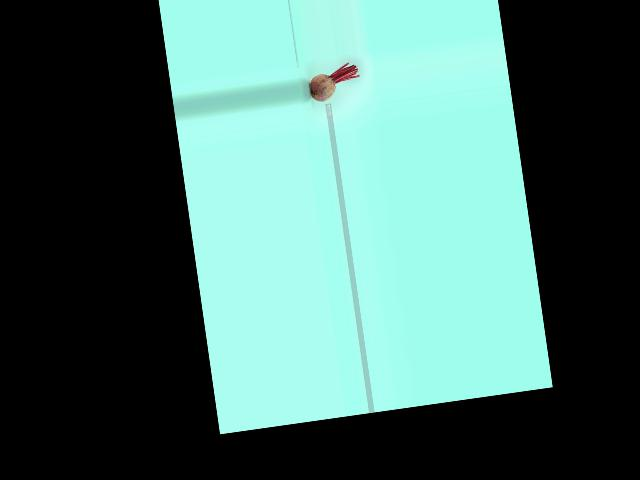beet: (306, 61, 362, 103)
